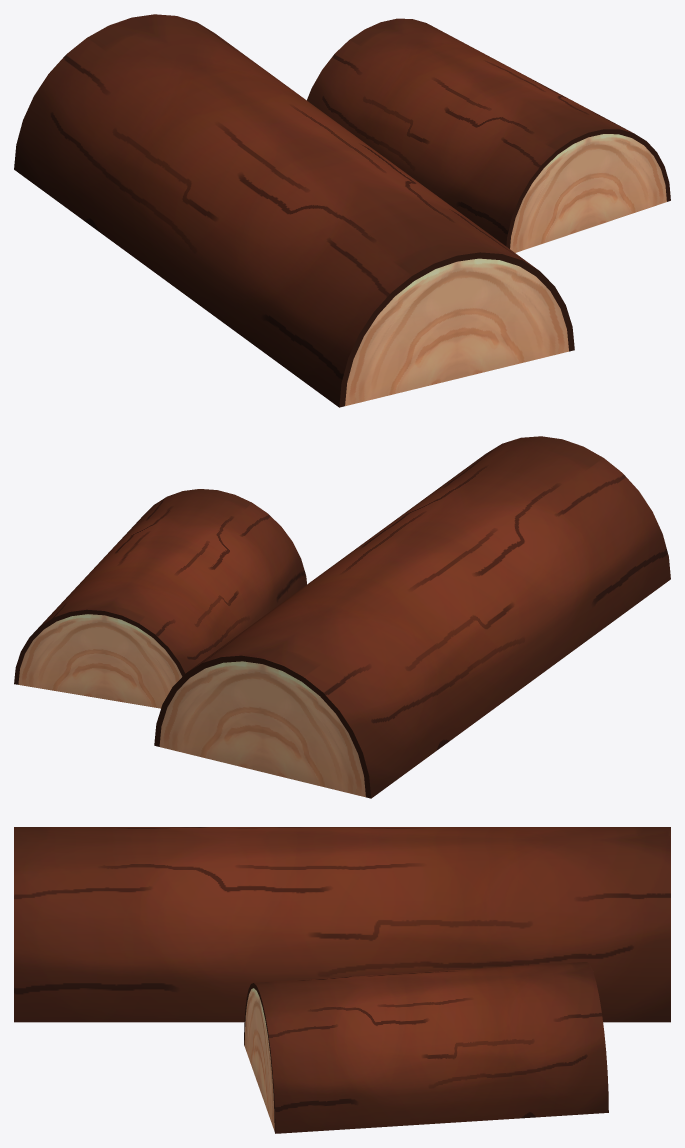
File: Log3.fbx
3 renders of one model, top to bottom at view 1: azimuth 30°, elevation 25°; view 2: azimuth 150°, elevation 25°; view 3: azimuth 270°, elevation 25°, orthographic. The views are drawn at different scales.
Visible parts, largest first — view 1: Log3; view 2: Log3; view 3: Log3.
Boxes of the visible parts, x1=… form: Log3: x1=14, y1=14, x2=670, y2=407; Log3: x1=14, y1=436, x2=670, y2=798; Log3: x1=14, y1=827, x2=670, y2=1133.
Bounding box in the file's own units: 72.74 × 18.63 × 88.88.
Materials: 1 (1 with a texture image).
